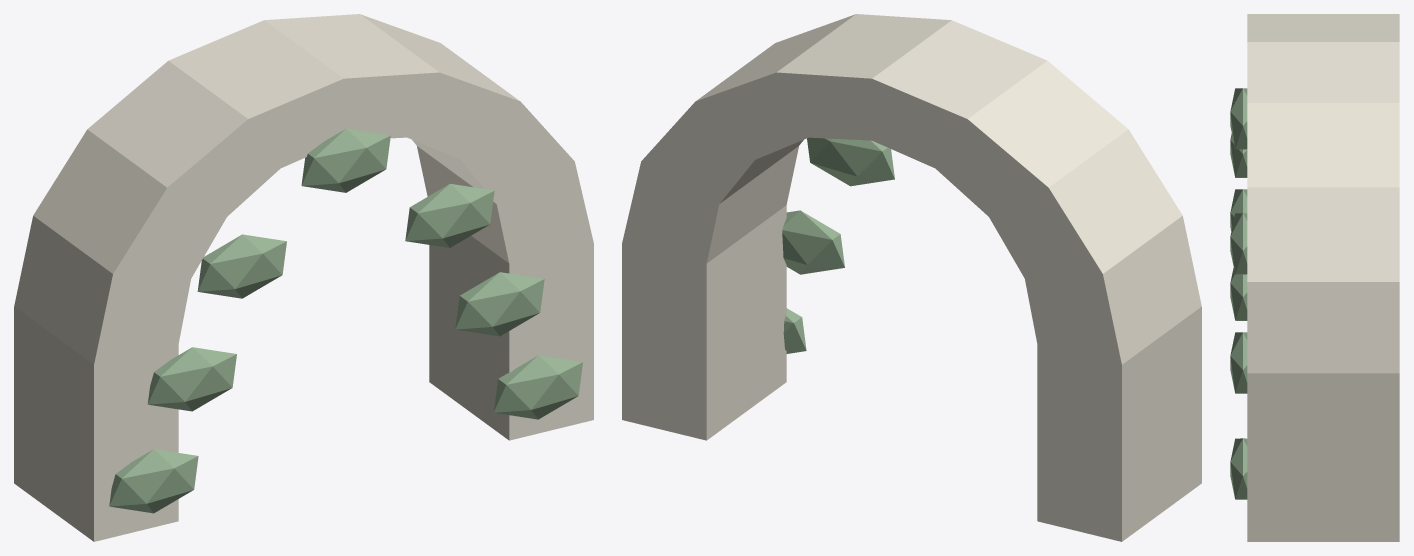
Rendered from moss_arch_near-DY83Ov-O.glb.
3 views of the same model, side by side, from view 1: azimuth 30°, elevation 25°; view 2: azimuth 150°, elevation 25°; view 3: azimuth 270°, elevation 25° (orthographic). The views are drawn at different scales.
Parts seen in each view (by area): view 1: moss_arch_near; view 2: moss_arch_near; view 3: moss_arch_near.
Part boxes in pixels (left/top/right/bottom): moss_arch_near: left=14, top=14, right=593, bottom=541; moss_arch_near: left=622, top=14, right=1201, bottom=541; moss_arch_near: left=1230, top=14, right=1399, bottom=541.
Bounding box in the file's own units: 13 × 10 × 4.
